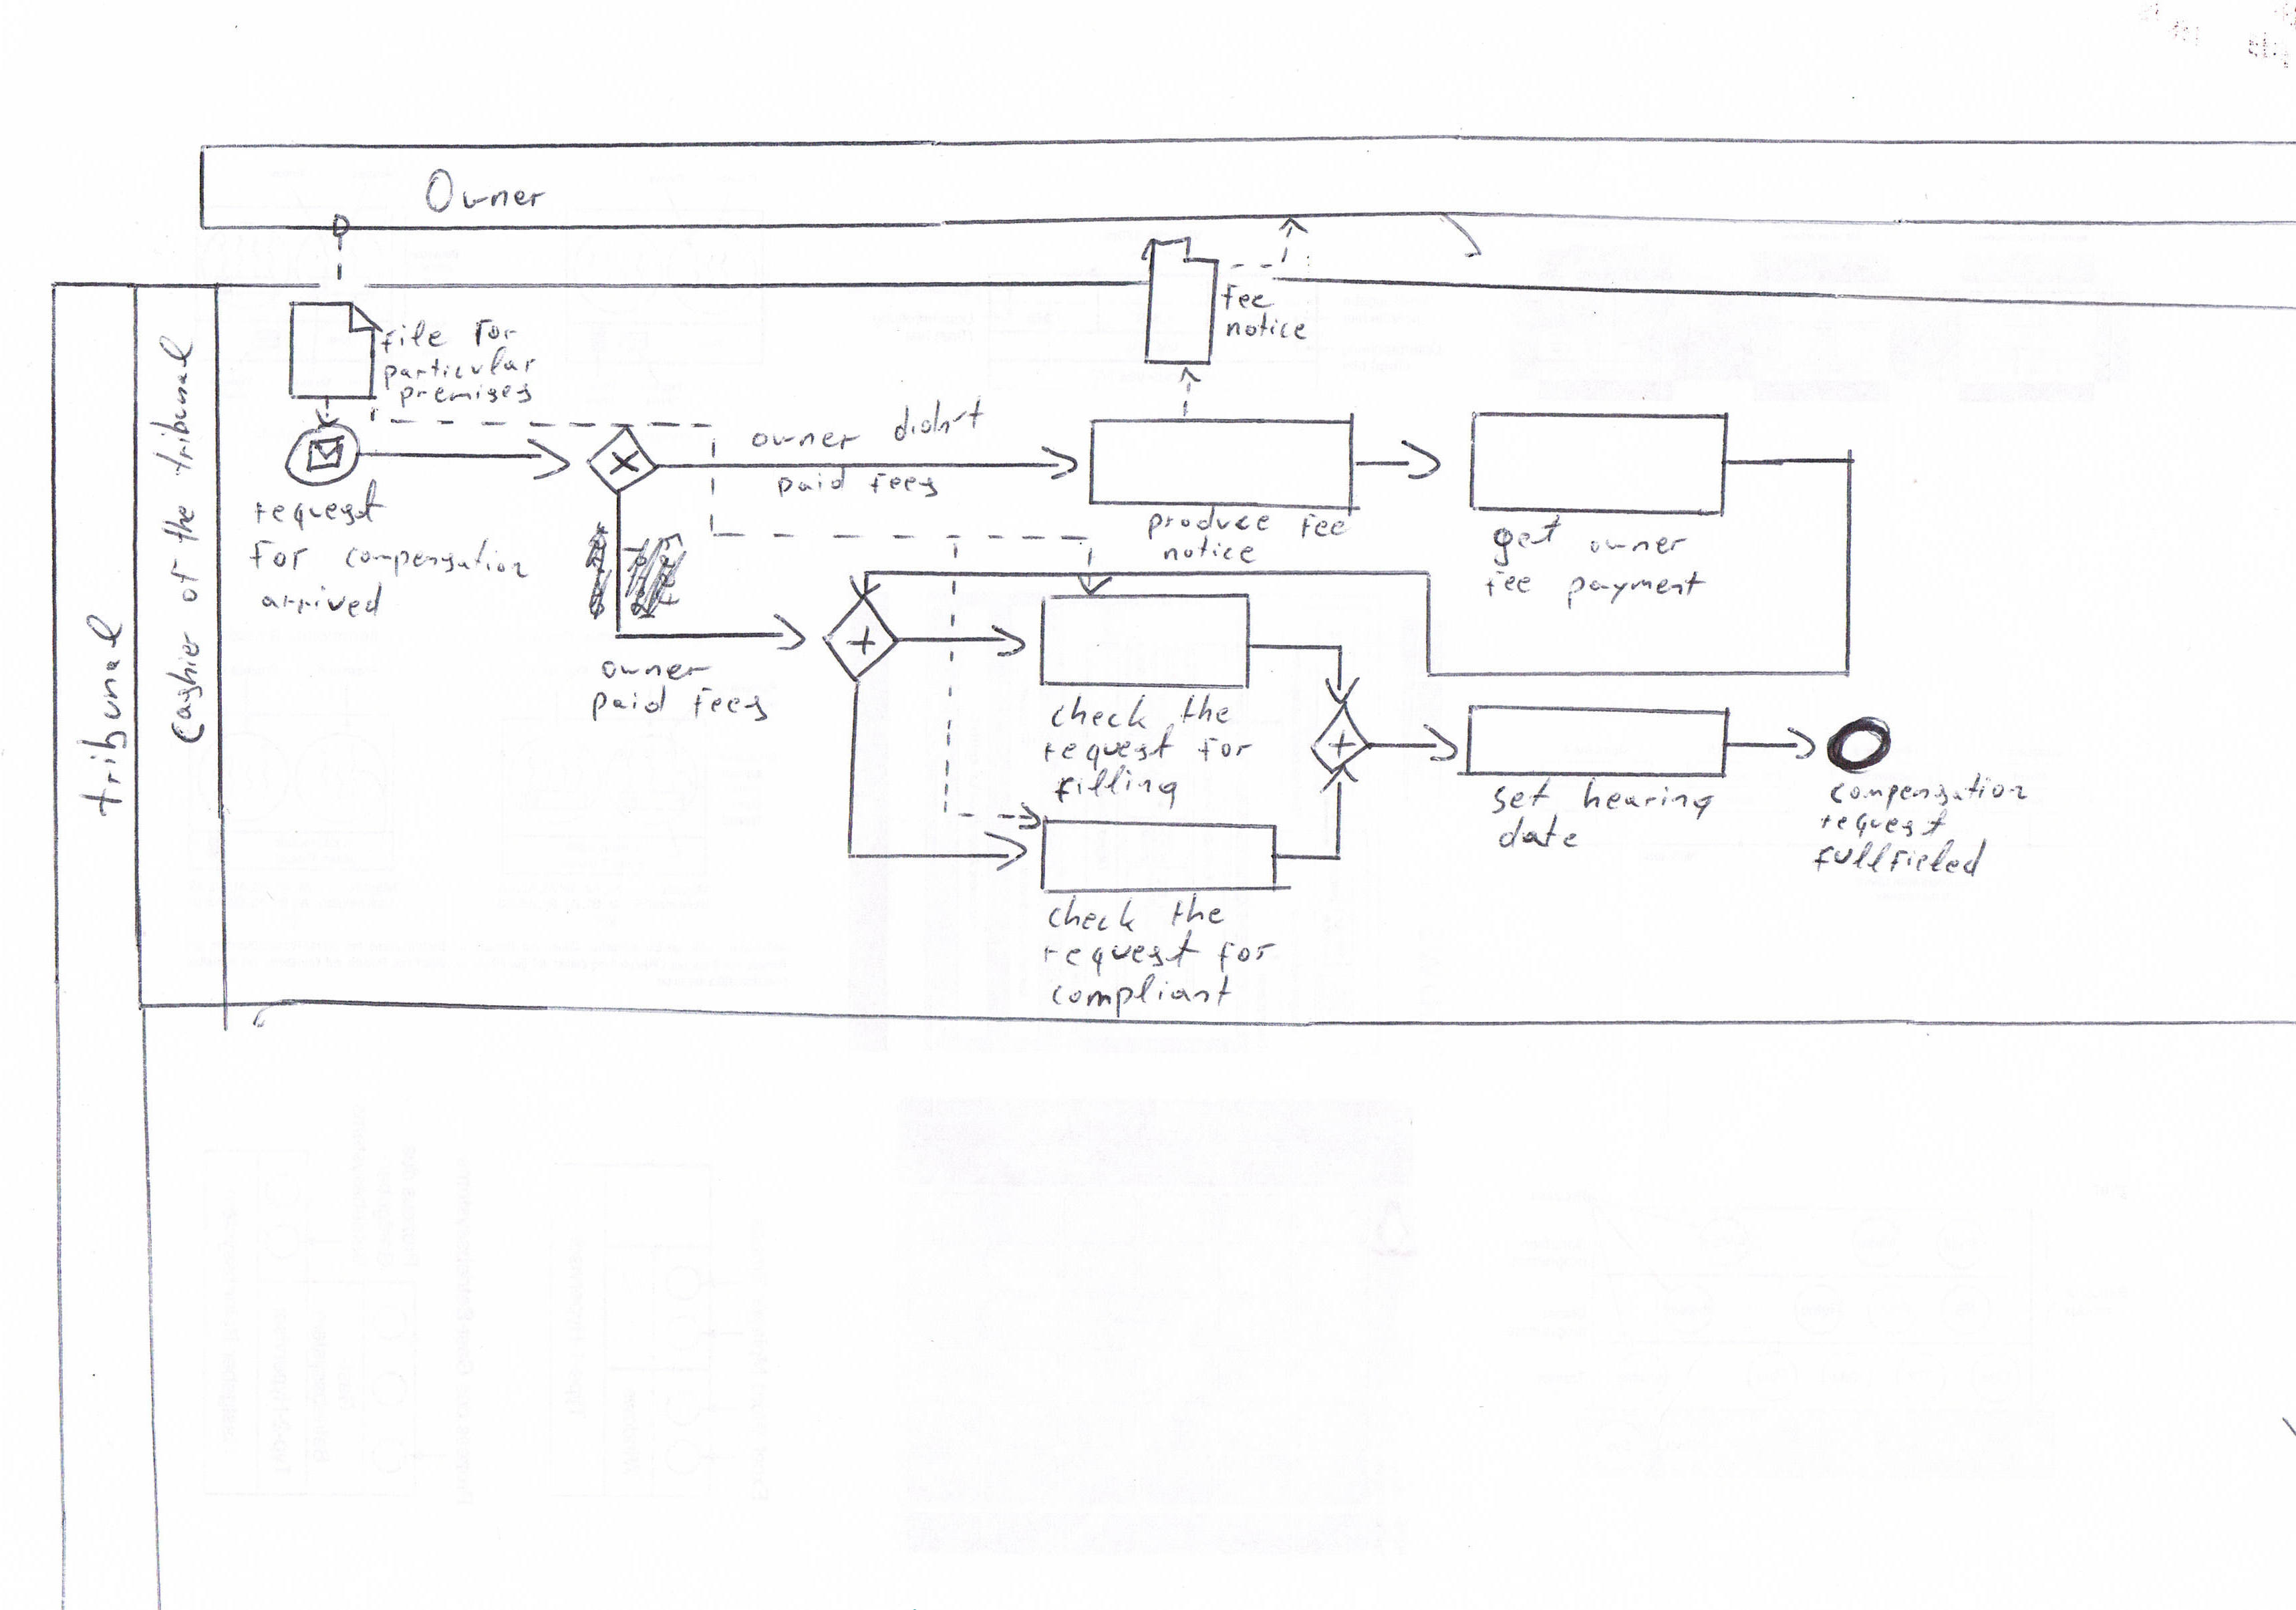Cashier: (161, 626, 209, 748)
Fee: (1216, 281, 1279, 314)
File: (379, 317, 452, 358)
Owner: (420, 166, 550, 218)
arrived: (256, 579, 386, 621)
check: (1047, 691, 1151, 733), (1045, 893, 1139, 937)
compensation: (340, 532, 532, 583), (1827, 767, 2031, 815)
compliant: (1047, 970, 1237, 1020)
date: (1495, 809, 1582, 853)
dislast: (888, 391, 991, 447)
fee: (1296, 509, 1352, 544), (1481, 569, 1535, 602)
fees: (689, 684, 771, 727), (867, 467, 942, 502)
filling: (1050, 761, 1181, 815)
for: (1214, 935, 1279, 977), (246, 536, 312, 576), (1195, 733, 1256, 766), (471, 314, 522, 351)
fullfilled: (1811, 834, 1991, 881)
get: (1488, 513, 1565, 569)
hearing: (1579, 773, 1719, 823)
notice: (1160, 532, 1260, 567), (1223, 309, 1310, 344)
of: (166, 555, 204, 607)
owner: (598, 658, 717, 684), (1584, 532, 1692, 560), (748, 427, 864, 454)
paid: (588, 680, 672, 726), (775, 462, 851, 504)
particular: (379, 342, 539, 394)
payment: (1563, 565, 1710, 614)
premises: (396, 379, 536, 412)
produce: (1145, 502, 1274, 542)
request: (1040, 926, 1204, 980), (248, 474, 391, 536), (1040, 720, 1178, 774), (1818, 806, 1952, 843)
set: (1488, 776, 1556, 816)
the: (1174, 689, 1233, 731), (1167, 891, 1228, 931), (157, 501, 202, 549)
tribunal: (70, 609, 134, 823), (145, 331, 199, 481)
